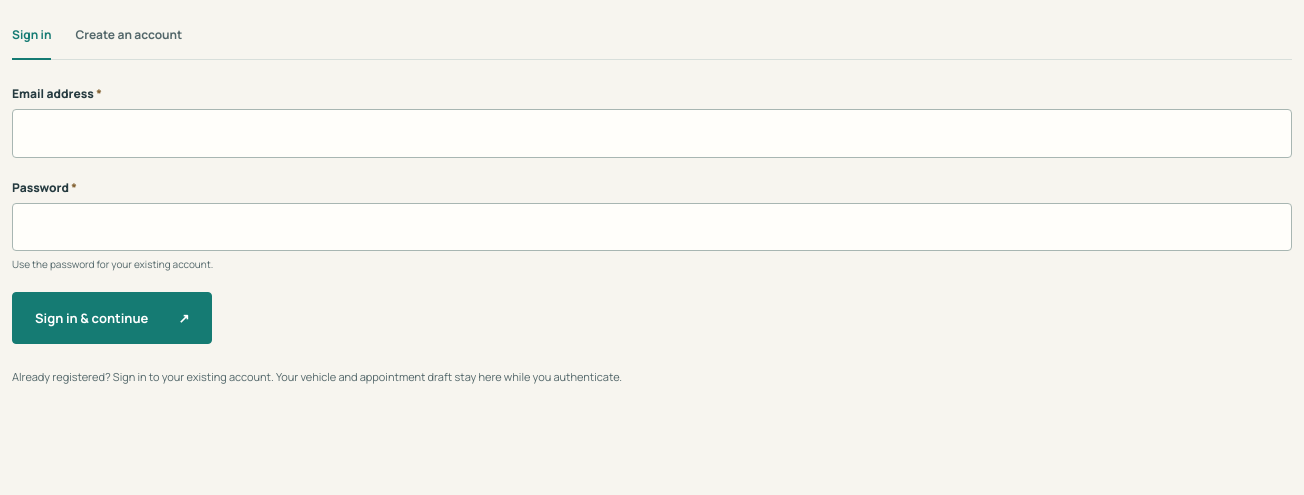
Test: waits for signup email confirmation and never posts a booking or pretends to be signed in
Click the button "Create an account" at (129, 36), box [75, 12, 182, 60]
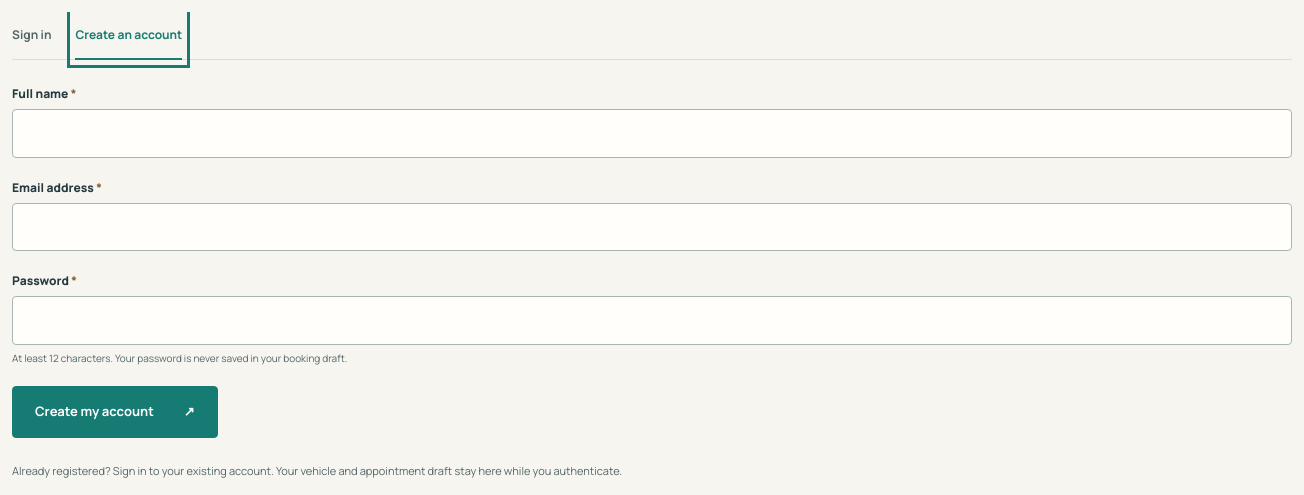
Type "Test Customer" into the field labelled "Full name *" at (652, 133), box [12, 109, 1292, 158]
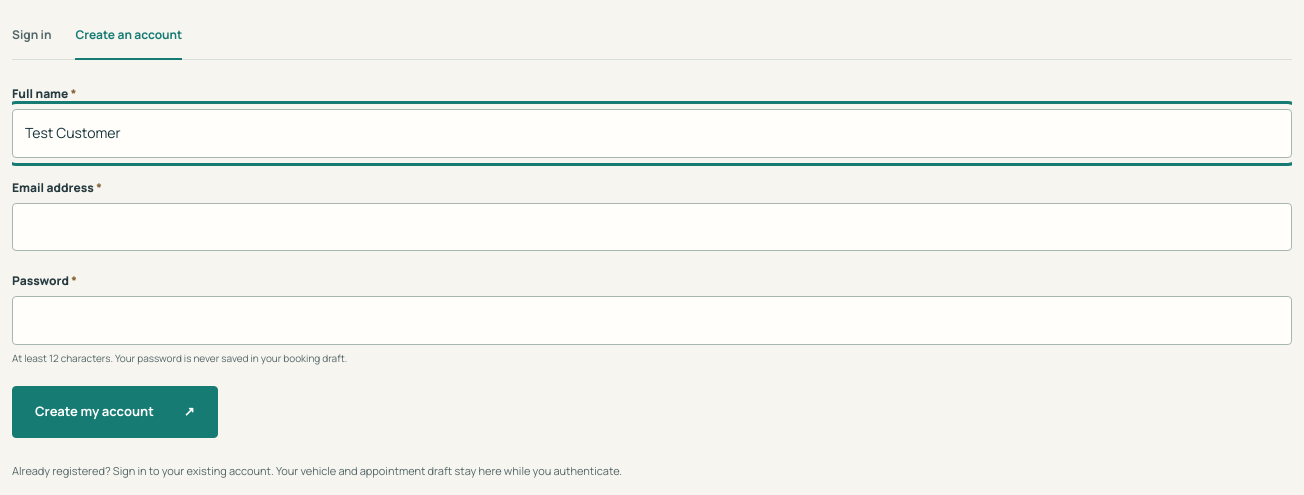
Type "customer@example.test" into the field labelled "Email address *" at (652, 227), box [12, 203, 1292, 251]
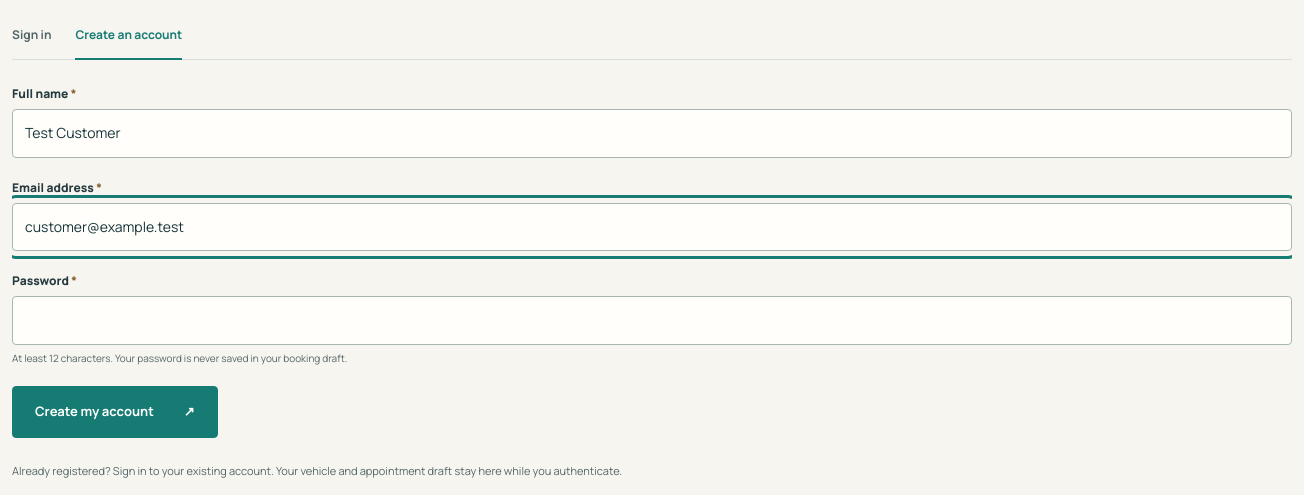
Type "Test-Password-123!" into the password field labelled "Password *" at (652, 320), box [12, 296, 1292, 345]
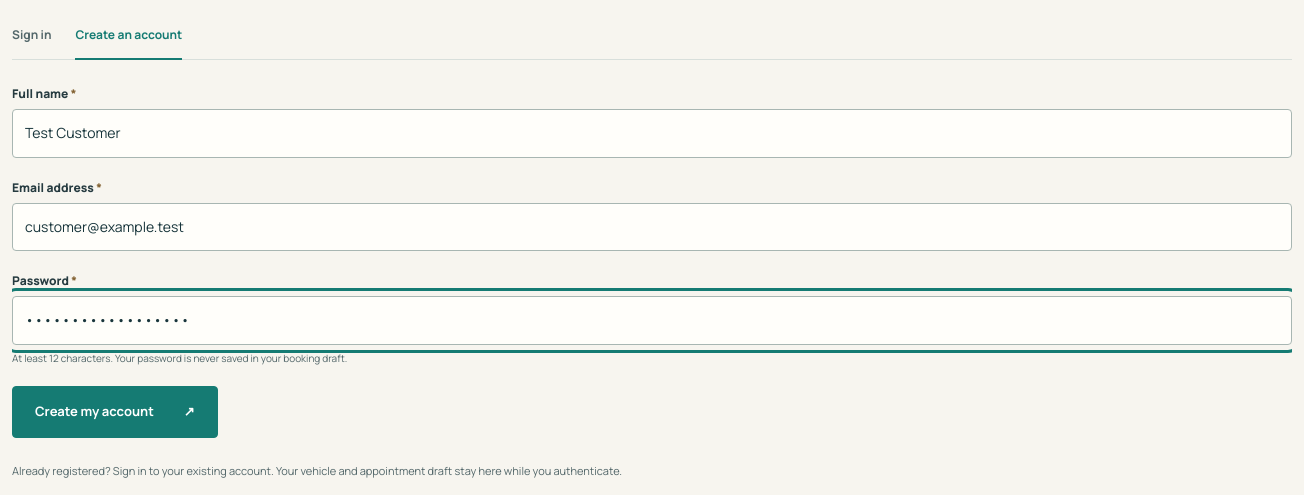
Click the button "Create my account ↗" at (115, 412), box [12, 386, 218, 438]
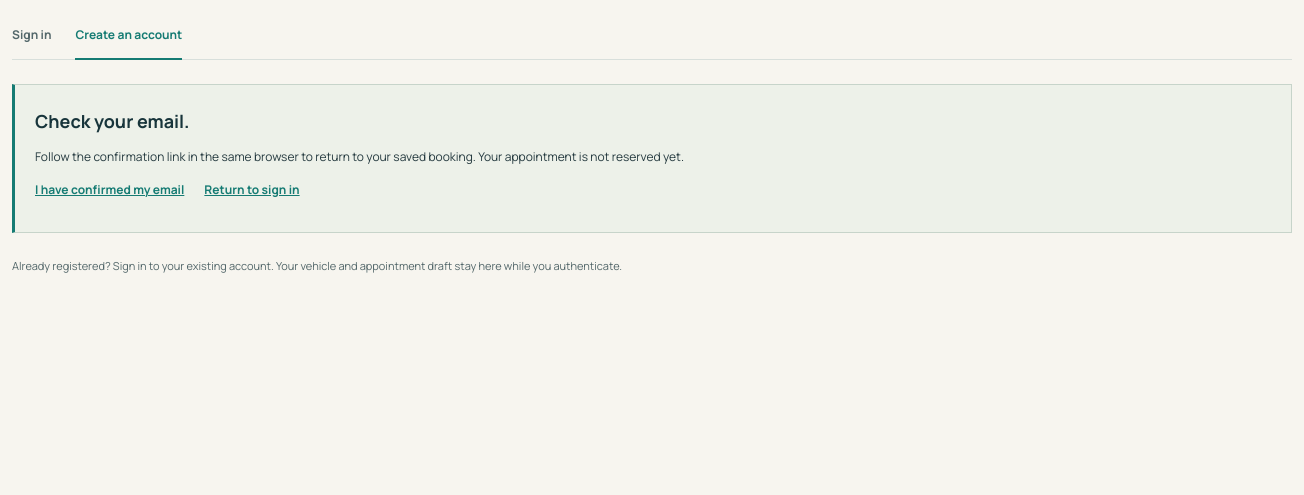
Result: the heading "Check your email." is shown at [35, 109, 190, 133]
Result: the text "appointment is not reserved yet" is shown at [35, 148, 684, 165]
